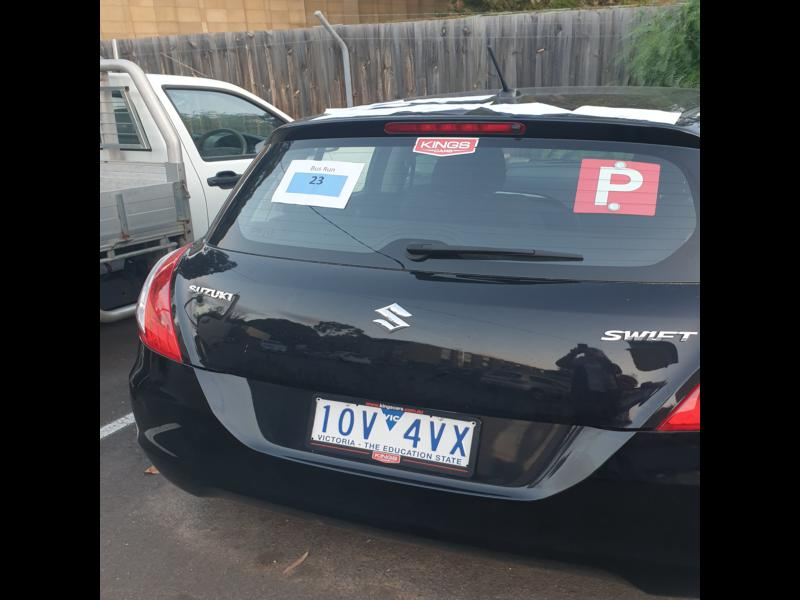BusRun: (287, 172, 346, 197)
PlateNo: (312, 397, 477, 466)
